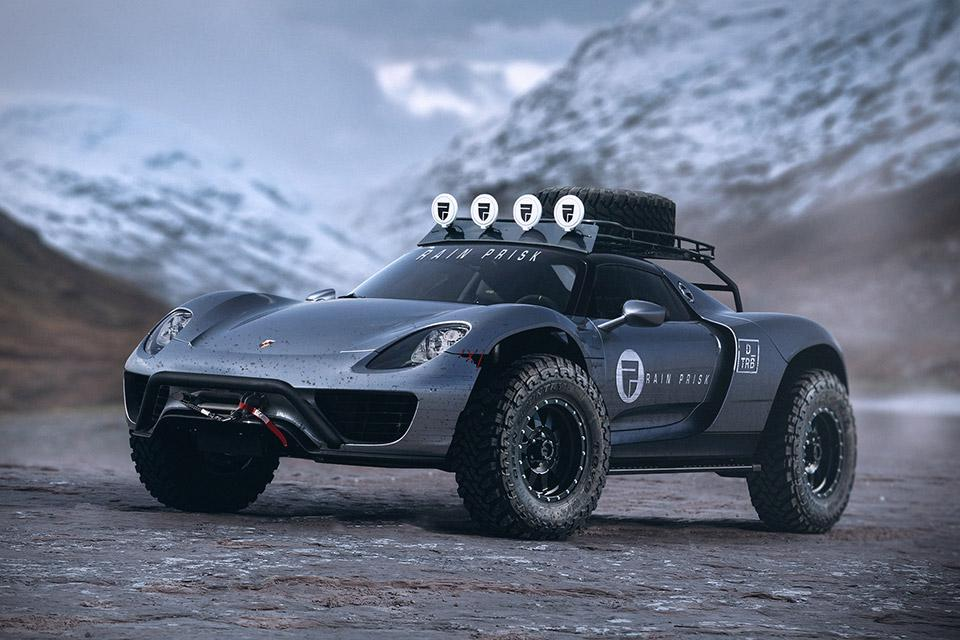car: (109, 158, 900, 570)
